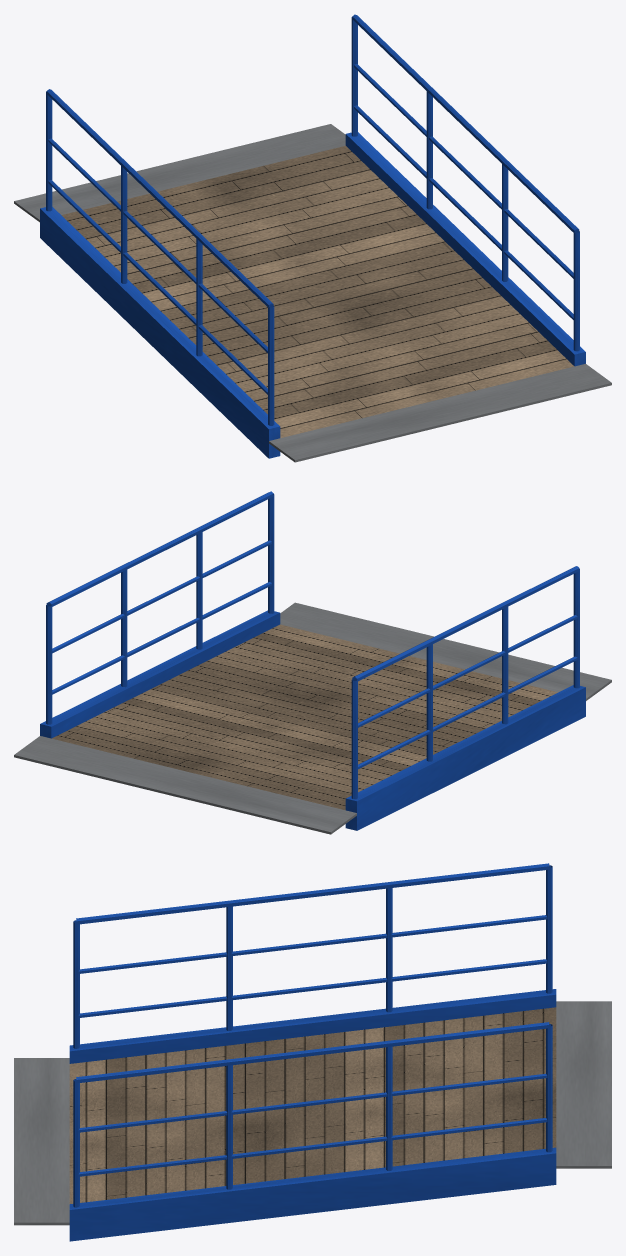
The model's file is SM_Morin_Marina_Passerella_v2.fbx.
The picture shows the model from 3 angles, top to bottom: view 1: azimuth 30°, elevation 25°; view 2: azimuth 150°, elevation 25°; view 3: azimuth 270°, elevation 25°; orthographic projection. The views are drawn at different scales.
Parts seen in each view (by area): view 1: SM_Morin_Marina_Passerella_v2; view 2: SM_Morin_Marina_Passerella_v2; view 3: SM_Morin_Marina_Passerella_v2.
Part boxes in pixels (x1,y1,x2,y2): SM_Morin_Marina_Passerella_v2: (14, 14, 611, 462); SM_Morin_Marina_Passerella_v2: (14, 491, 611, 834); SM_Morin_Marina_Passerella_v2: (14, 863, 611, 1241).
Size of what is drawn, in the model's own units: 280 by 430 by 172.
Materials: 2 (2 with a texture image).
